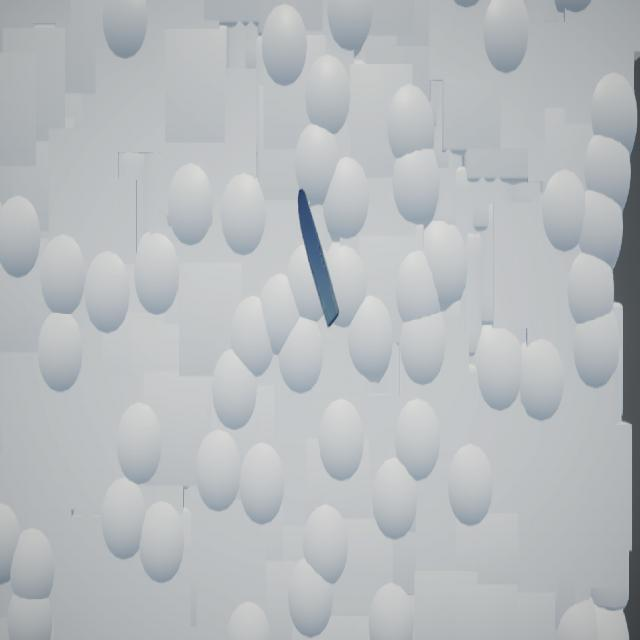top_knife: (299, 190, 341, 330)
